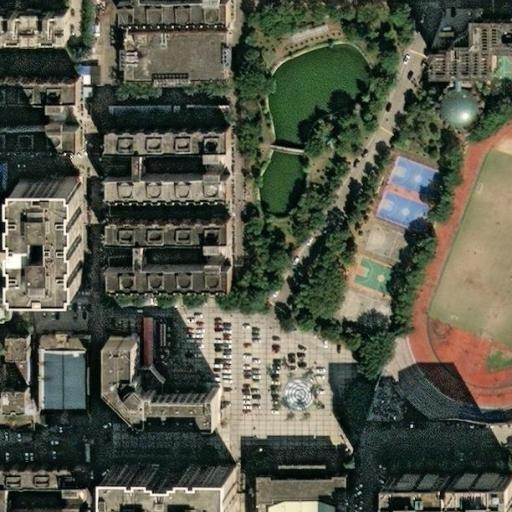building: (104, 344, 216, 428), (10, 178, 75, 290), (132, 213, 230, 284), (89, 147, 212, 194), (427, 15, 512, 81), (110, 469, 234, 512), (379, 473, 508, 512), (111, 35, 213, 81), (20, 332, 70, 421), (88, 125, 214, 147), (0, 117, 83, 150), (0, 13, 69, 42), (268, 477, 353, 496), (0, 74, 83, 93), (445, 90, 484, 129), (267, 496, 343, 512), (139, 318, 162, 353), (105, 106, 161, 118), (284, 463, 320, 478), (186, 107, 222, 120), (0, 358, 21, 379), (443, 20, 467, 38), (222, 248, 241, 259), (215, 156, 235, 166), (202, 156, 215, 166), (161, 106, 169, 118), (8, 380, 17, 386)
